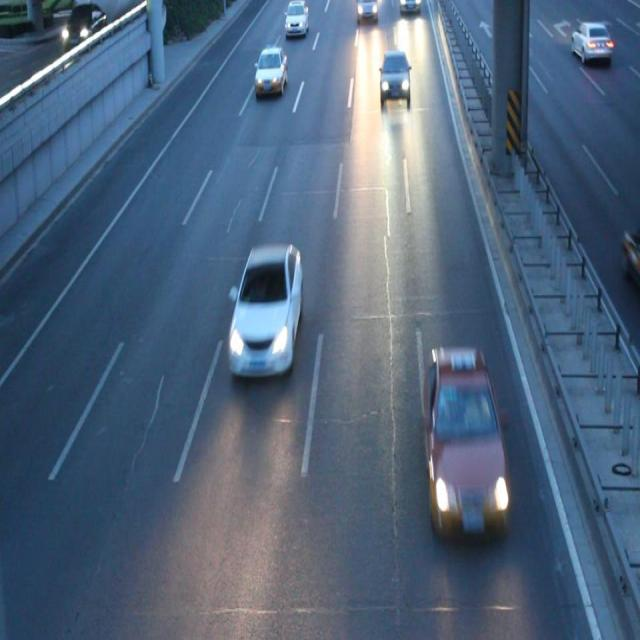car: (422, 346, 509, 536), (228, 242, 301, 379), (378, 52, 411, 104), (253, 46, 286, 96), (285, 2, 308, 34), (357, 1, 377, 22)
